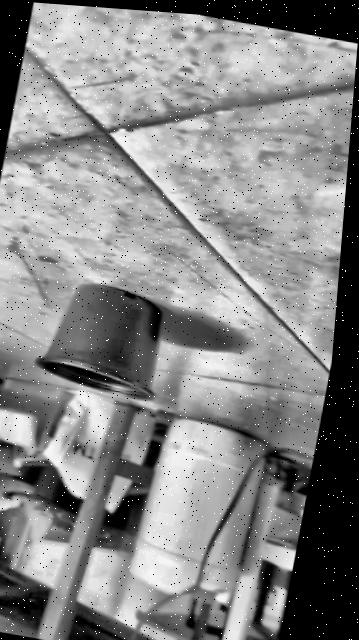pot: (31, 276, 172, 401)
